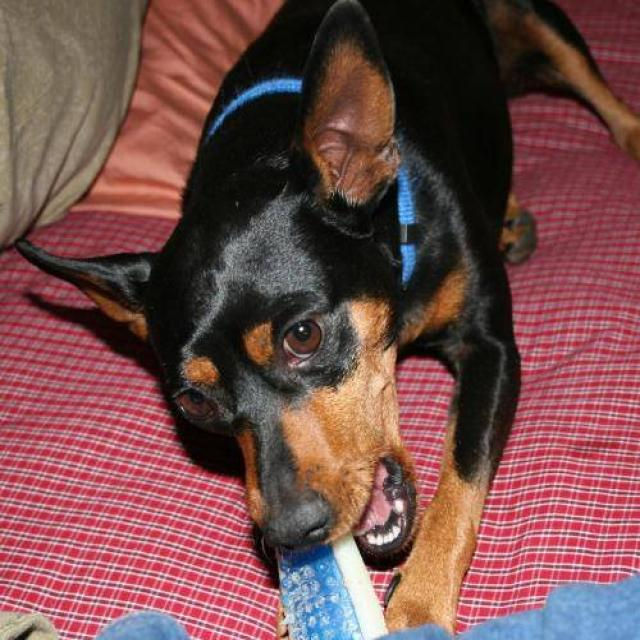dog: (13, 0, 639, 639)
